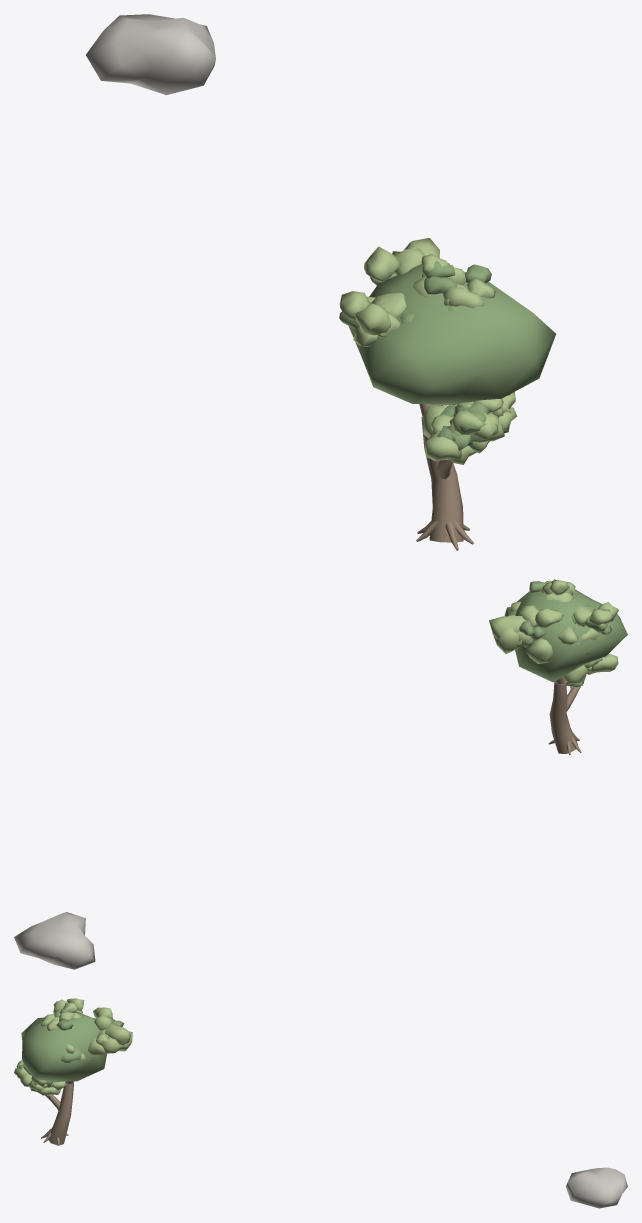
3 renders of one model, top to bottom at view 1: azimuth 30°, elevation 25°; view 2: azimuth 150°, elevation 25°; view 3: azimuth 270°, elevation 25°, orthographic. The views are drawn at different scales.
Visible parts, largest first — view 1: p1_m4; view 2: p1_m4; view 3: p1_m4.
Boxes of the visible parts, <box> form: p1_m4: <box>86,14,555,550</box>; p1_m4: <box>14,579,627,969</box>; p1_m4: <box>14,998,627,1208</box>.
Size of the model in its own units: 15.16 by 10.06 by 40.23.
